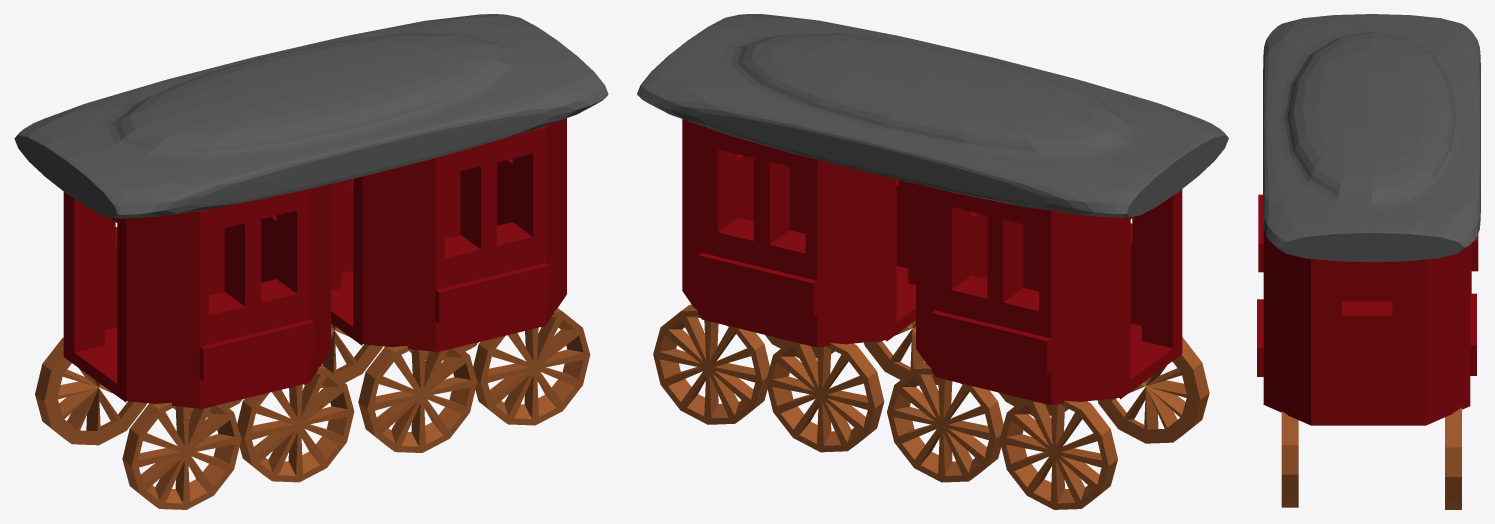
File: wagon.fbx
3 renders of one model, left to right at view 1: azimuth 30°, elevation 25°; view 2: azimuth 150°, elevation 25°; view 3: azimuth 270°, elevation 25°, orthographic. The views are drawn at different scales.
Visible parts, largest first — view 1: Toit, cabineBase.002, cabineBase.001, bigwheel.003, bigwheel.010, bigwheel.011, bigwheel.004, bigwheel.009, bigwheel.002; view 2: Toit, cabineBase.002, cabineBase.001, bigwheel.009, bigwheel.002, bigwheel.001, bigwheel.008, bigwheel.010, bigwheel.003; view 3: Toit, cabineBase.001, cabineBase.002, bigwheel.004, bigwheel.001.
Part boxes in pixels (box(x1,y1,x2,y2)): Toit: box(14, 14, 608, 218); cabineBase.002: box(63, 184, 330, 409); cabineBase.001: box(331, 118, 566, 352); bigwheel.003: box(358, 346, 477, 452); bigwheel.010: box(122, 402, 241, 509); bigwheel.011: box(237, 365, 354, 482); bigwheel.004: box(473, 308, 590, 425); bigwheel.009: box(35, 337, 146, 445); bigwheel.002: box(304, 323, 382, 387); Toit: box(637, 14, 1228, 217); cabineBase.002: box(916, 184, 1182, 405); cabineBase.001: box(682, 119, 915, 347); bigwheel.009: box(999, 399, 1117, 509); bigwheel.002: box(766, 341, 884, 452); bigwheel.001: box(653, 304, 769, 424); bigwheel.008: box(887, 362, 1003, 482); bigwheel.010: box(1097, 337, 1209, 443); bigwheel.003: box(864, 320, 938, 385); Toit: box(1263, 14, 1480, 262); cabineBase.001: box(1257, 226, 1476, 425); cabineBase.002: box(1258, 194, 1478, 301); bigwheel.004: box(1281, 411, 1298, 507); bigwheel.001: box(1445, 407, 1461, 509).
Size of the model in its own units: 1578 by 1088 by 683.
